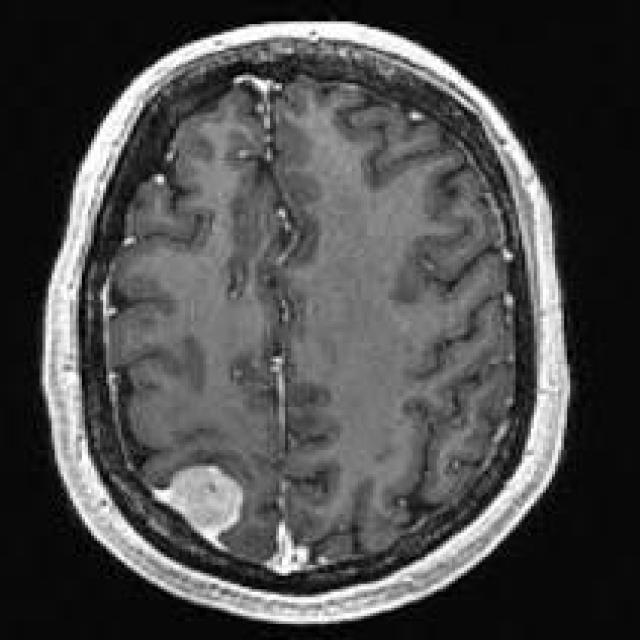Tumor-Cell: (148, 454, 263, 547)
